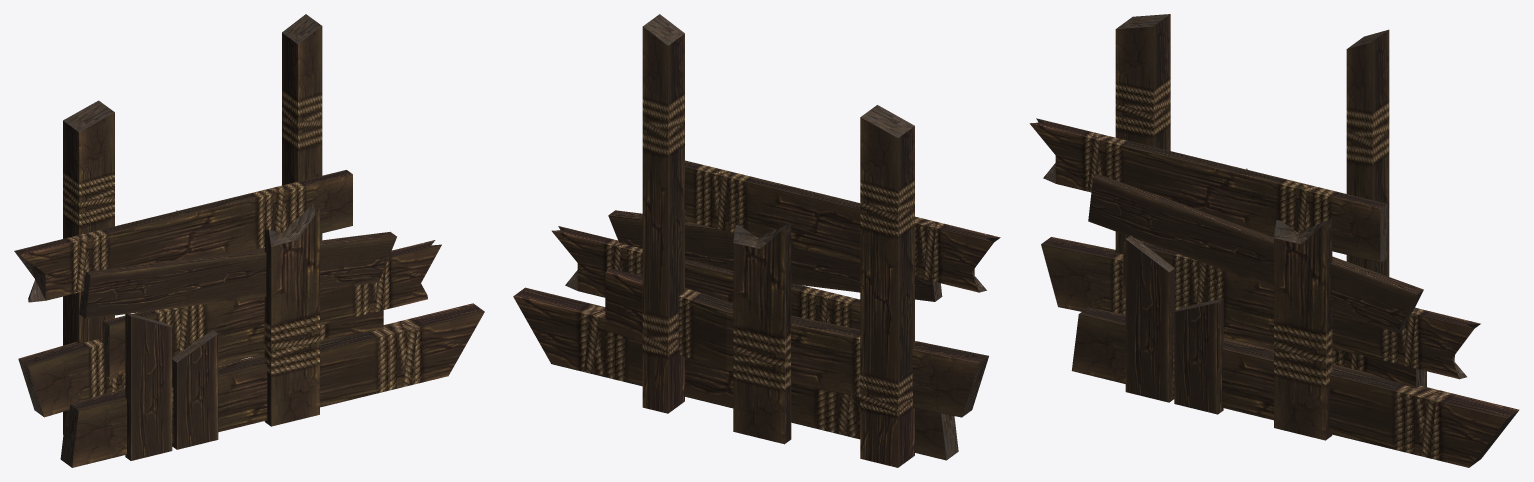
The model's file is A_mutou_012.fbx.
3 views of the same model, side by side, from view 1: azimuth 30°, elevation 25°; view 2: azimuth 150°, elevation 25°; view 3: azimuth 330°, elevation 25° (orthographic). The views are drawn at different scales.
Visible parts, largest first — view 1: A_mutou_012; view 2: A_mutou_012; view 3: A_mutou_012.
Boxes of the visible parts, bbox=[...] form: A_mutou_012: bbox=[14, 14, 484, 467]; A_mutou_012: bbox=[513, 14, 1000, 467]; A_mutou_012: bbox=[1029, 14, 1519, 467].
Size of the model in its own units: 289 by 222 by 40.75.
